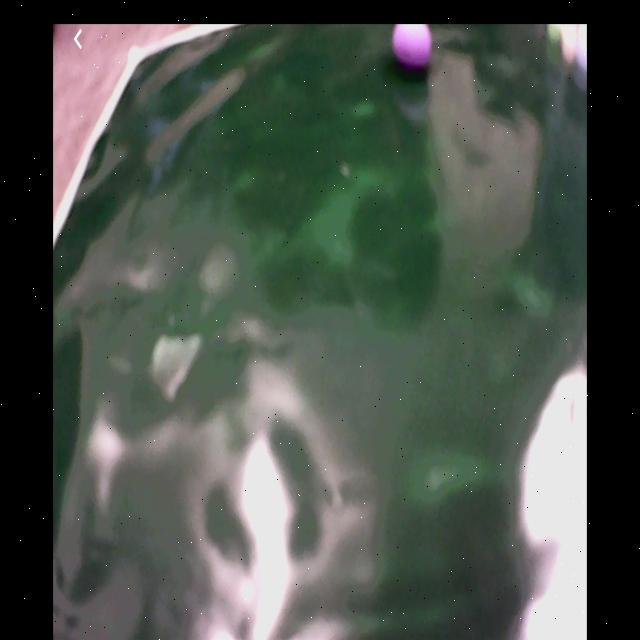ball: (393, 23, 435, 70)
